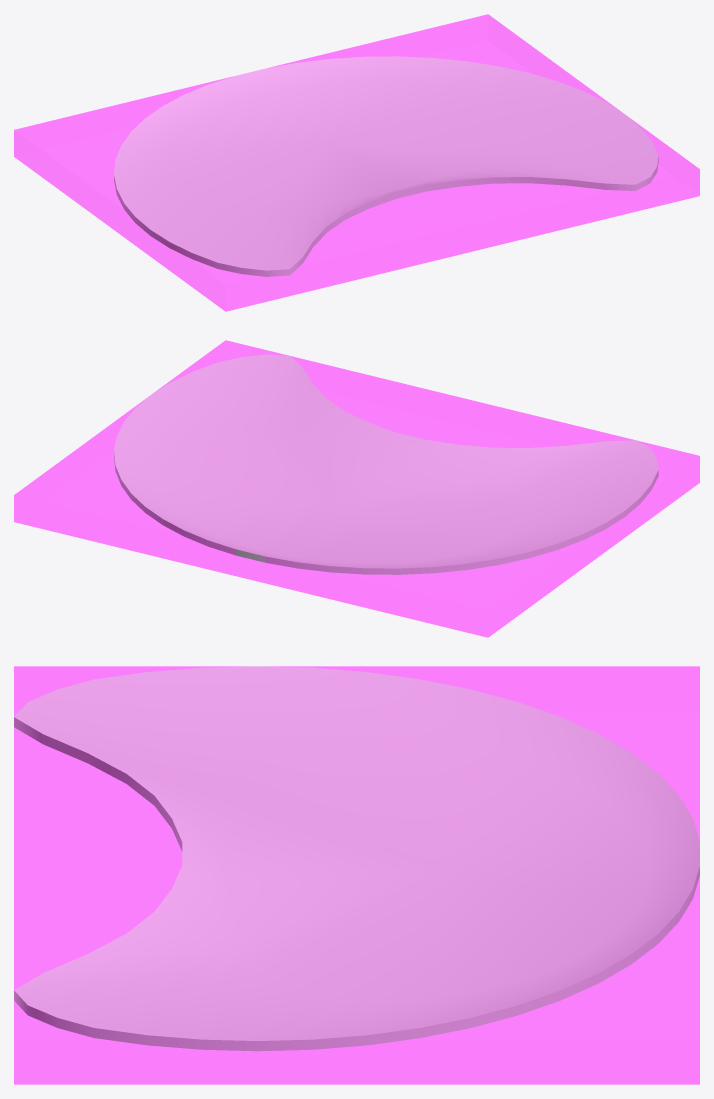
The model's file is snackplate_B.fbx.
The picture shows the model from 3 angles, top to bottom: view 1: azimuth 30°, elevation 25°; view 2: azimuth 150°, elevation 25°; view 3: azimuth 270°, elevation 25°; orthographic projection. The views are drawn at different scales.
Visible parts, largest first — view 1: boundingbox, snackplate_B; view 2: boundingbox, snackplate_B; view 3: boundingbox, snackplate_B.
Boxes of the visible parts, x1,y1,x2,y2 form: boundingbox: [14, 14, 699, 311]; snackplate_B: [114, 56, 658, 276]; boundingbox: [14, 340, 699, 637]; snackplate_B: [114, 354, 658, 574]; boundingbox: [14, 666, 699, 1084]; snackplate_B: [14, 666, 699, 1051].
Bounding box in the file's own units: 24 × 1.3 × 18.56.
